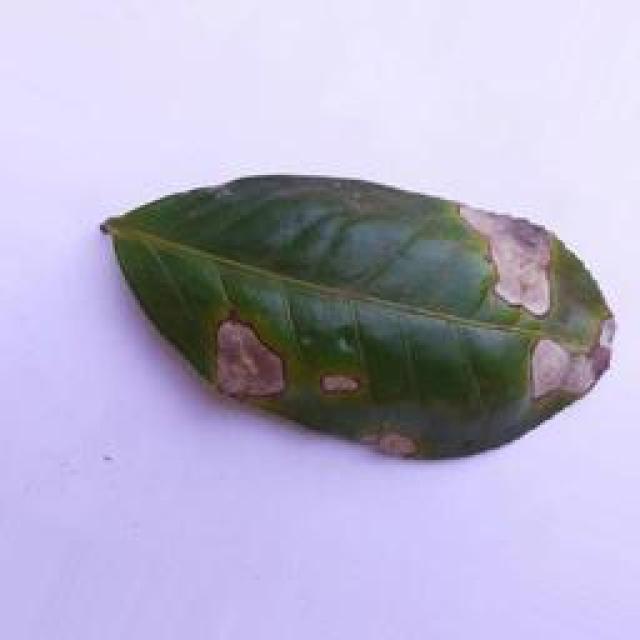Gray Blight: (94, 171, 618, 471)
